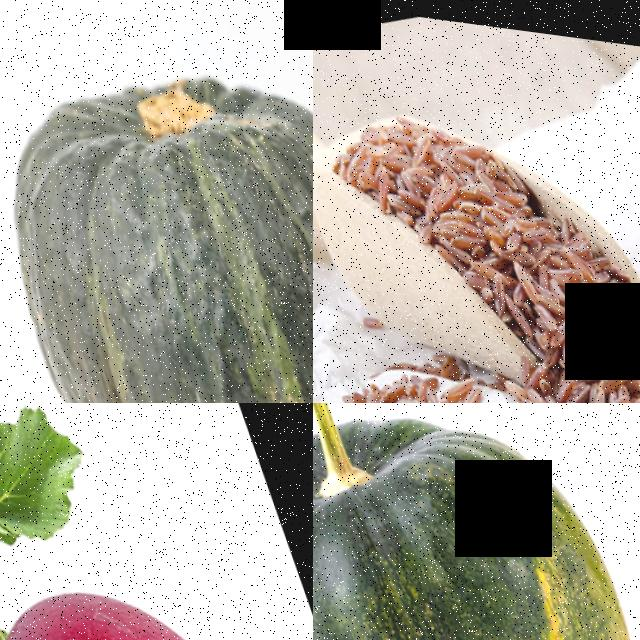pumpkin: (0, 0, 313, 403), (313, 403, 640, 640)
radishes: (0, 456, 313, 640)
red rice: (360, 62, 616, 375), (508, 251, 640, 403), (313, 338, 486, 403)
